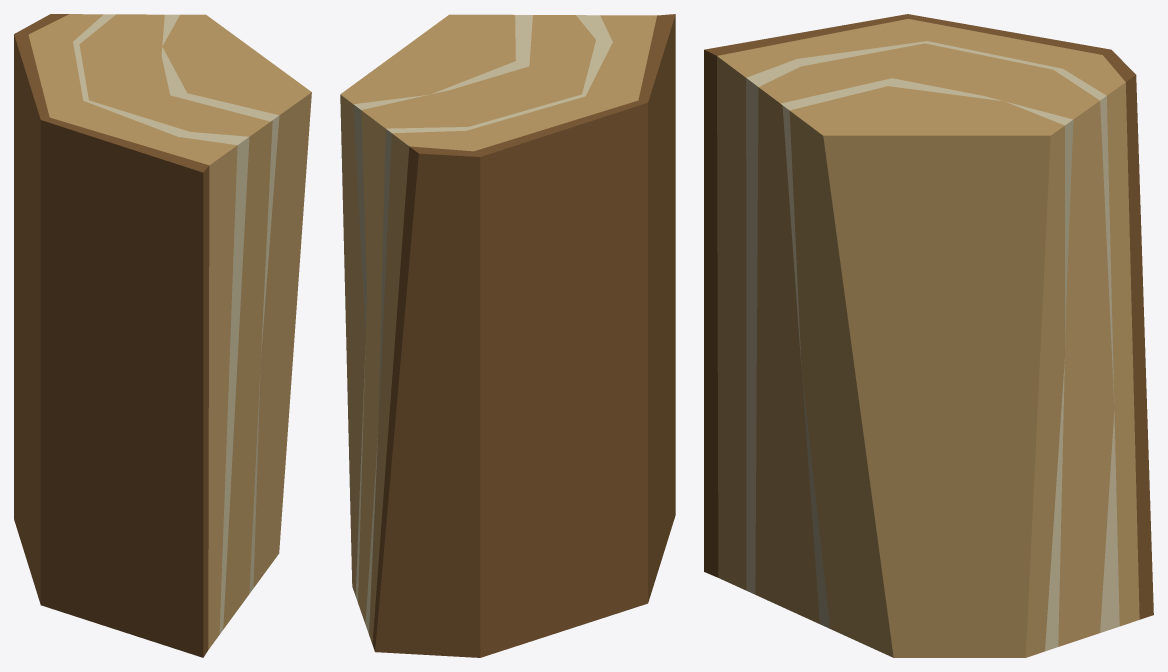
The model's file is Wood.fbx.
3 views of the same model, side by side, from view 1: azimuth 30°, elevation 25°; view 2: azimuth 150°, elevation 25°; view 3: azimuth 270°, elevation 25° (orthographic). The views are drawn at different scales.
Parts seen in each view (by area): view 1: Cylinder; view 2: Cylinder; view 3: Cylinder.
Part boxes in pixels (x1=…): Cylinder: x1=14, y1=14, x2=311, y2=657; Cylinder: x1=340, y1=14, x2=675, y2=657; Cylinder: x1=704, y1=14, x2=1153, y2=657.
Size of the model in its own units: 100 by 200 by 156.
